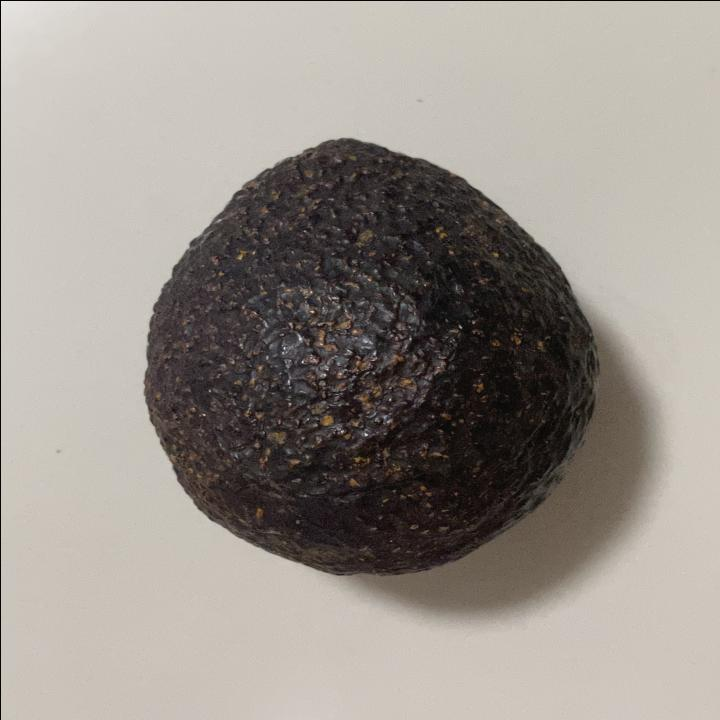Level3: (130, 126, 610, 581)
